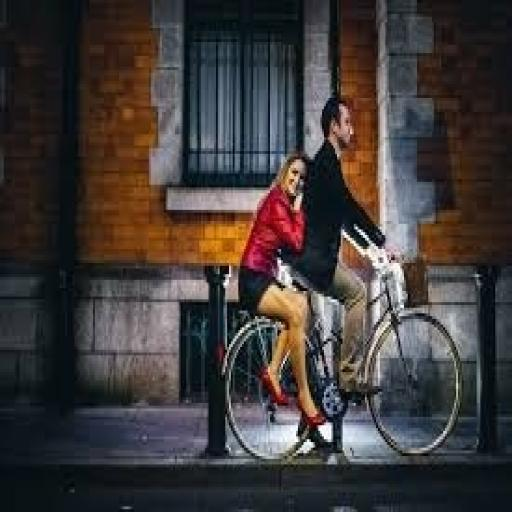cycling: (236, 148, 332, 445)
